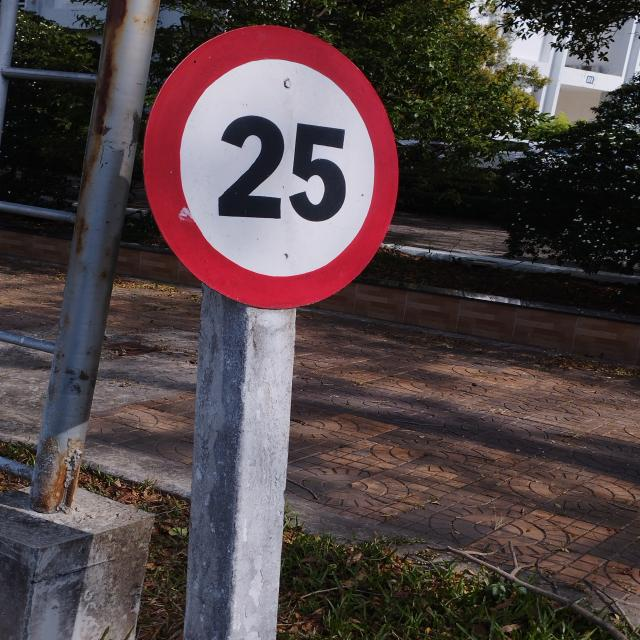Tre_Em: (142, 24, 398, 311)
